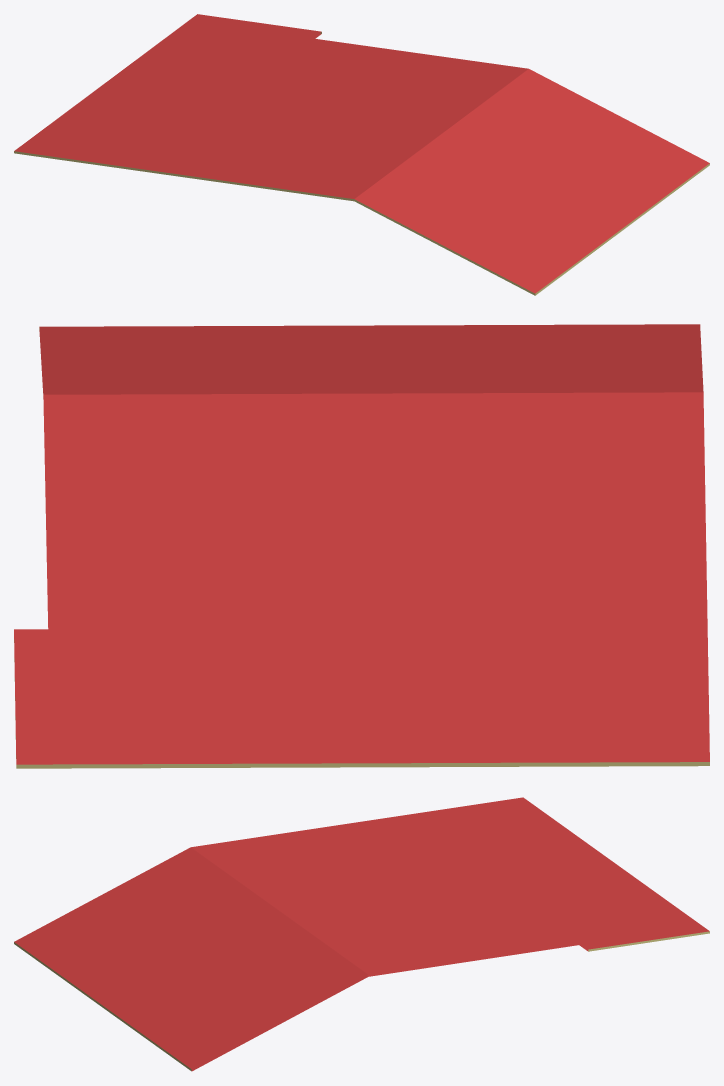
3 views of the same model, one above another, from view 1: azimuth 30°, elevation 25°; view 2: azimuth 150°, elevation 25°; view 3: azimuth 270°, elevation 25° (orthographic). The views are drawn at different scales.
Size of the model in its own units: 25.28 by 29.23 by 2.44.
